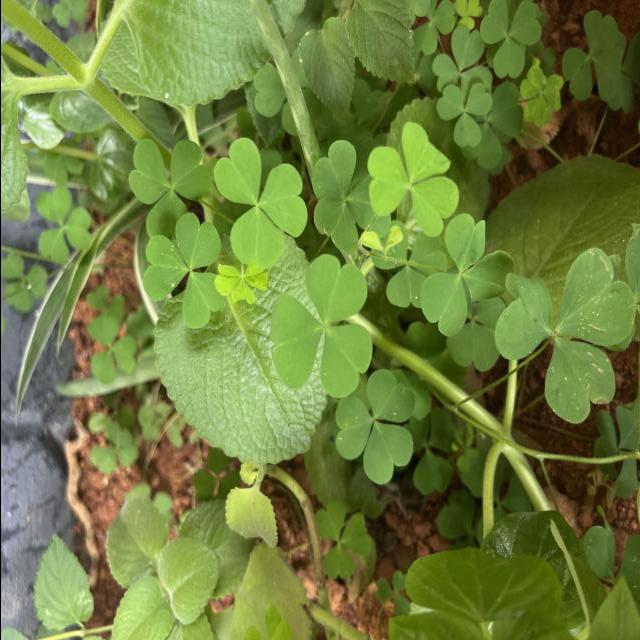Oxalis corniculata: (490, 247, 637, 426), (268, 253, 372, 399), (212, 137, 307, 271), (418, 213, 514, 338), (364, 121, 460, 239), (142, 212, 226, 331), (332, 368, 414, 486), (127, 137, 210, 240), (560, 8, 623, 104), (478, 0, 541, 80), (314, 498, 371, 580), (434, 82, 492, 148), (518, 65, 562, 128)
